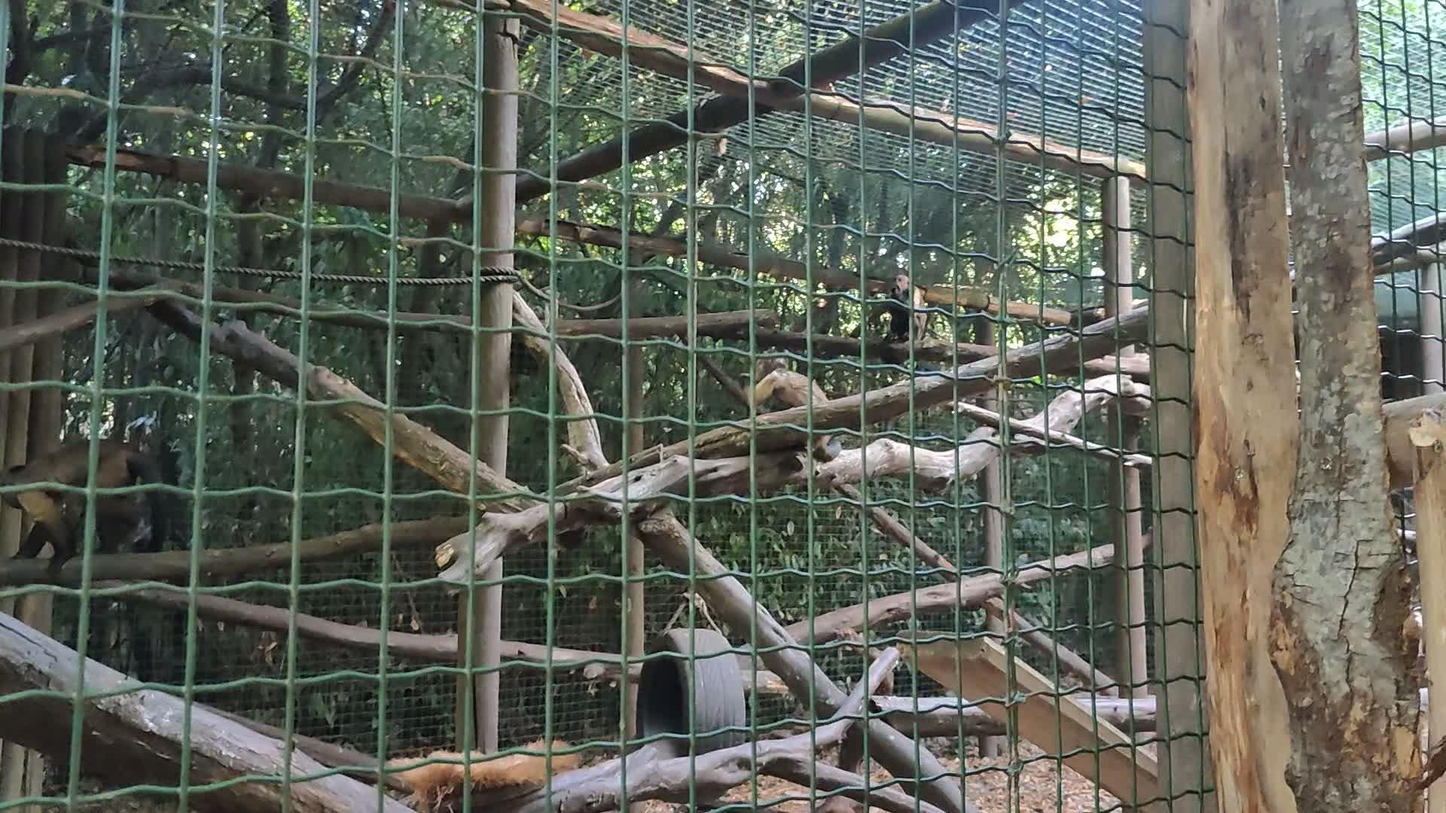boar: (0, 441, 170, 578), (736, 347, 842, 463), (885, 273, 928, 344)
